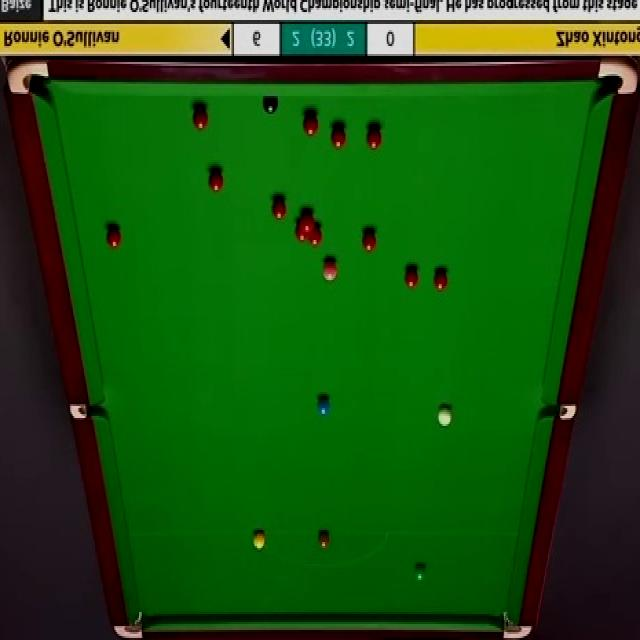black-ball: (262, 94, 280, 115)
blue-ball: (317, 393, 331, 418)
brown-ball: (318, 532, 330, 552)
green-ball: (412, 562, 426, 584)
pink-ball: (322, 256, 339, 281)
red-ball: (358, 229, 376, 255), (105, 224, 122, 251), (191, 105, 208, 132), (434, 266, 450, 293), (330, 126, 348, 150), (404, 265, 420, 291), (302, 112, 318, 138), (366, 124, 382, 150), (272, 196, 287, 220), (208, 171, 225, 191), (294, 218, 308, 242), (309, 222, 322, 246), (300, 210, 316, 229)
white-ball: (436, 408, 454, 427)
yellow-ball: (252, 531, 266, 549)
